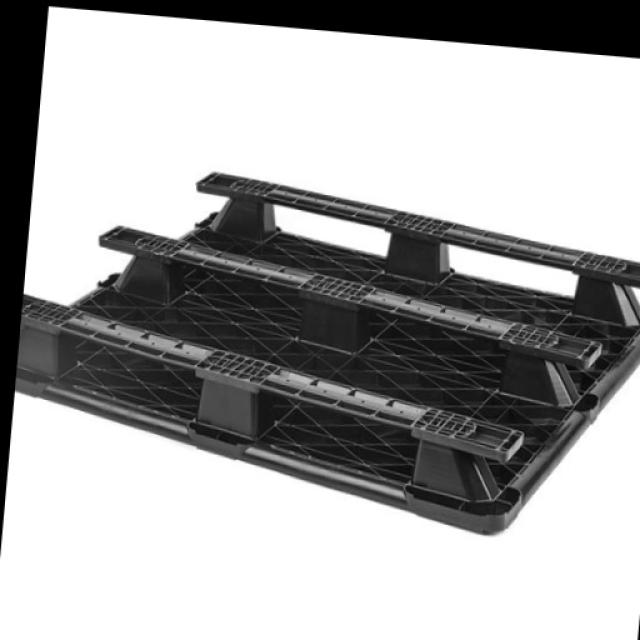non-igps: (11, 168, 640, 539)
